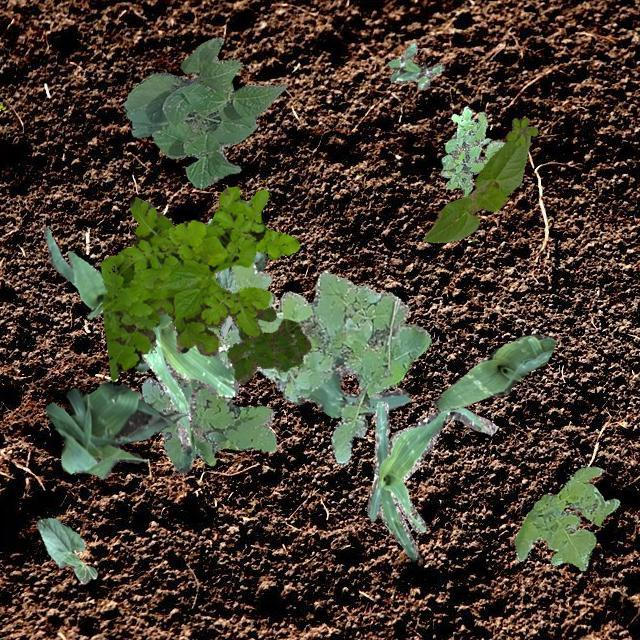crop: (122, 36, 286, 188), (366, 401, 496, 558), (134, 354, 410, 418), (140, 312, 238, 458), (44, 382, 185, 478), (422, 134, 530, 242), (434, 332, 556, 410), (42, 226, 106, 318), (36, 516, 96, 582), (214, 266, 233, 338), (252, 250, 266, 270)
weed: (206, 262, 430, 464), (100, 186, 298, 380), (140, 373, 276, 472), (514, 466, 618, 570), (227, 306, 310, 384), (439, 106, 504, 196), (386, 42, 444, 88), (504, 116, 536, 146)
